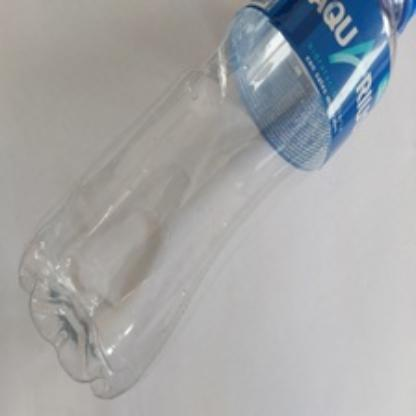Plastic Bottle: (15, 0, 416, 400)
